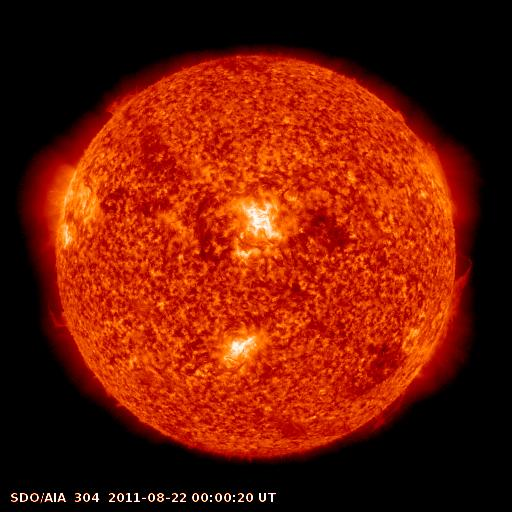prominence: (427, 250, 485, 358), (347, 383, 413, 440), (424, 140, 459, 214), (41, 296, 75, 342), (105, 88, 142, 119)
